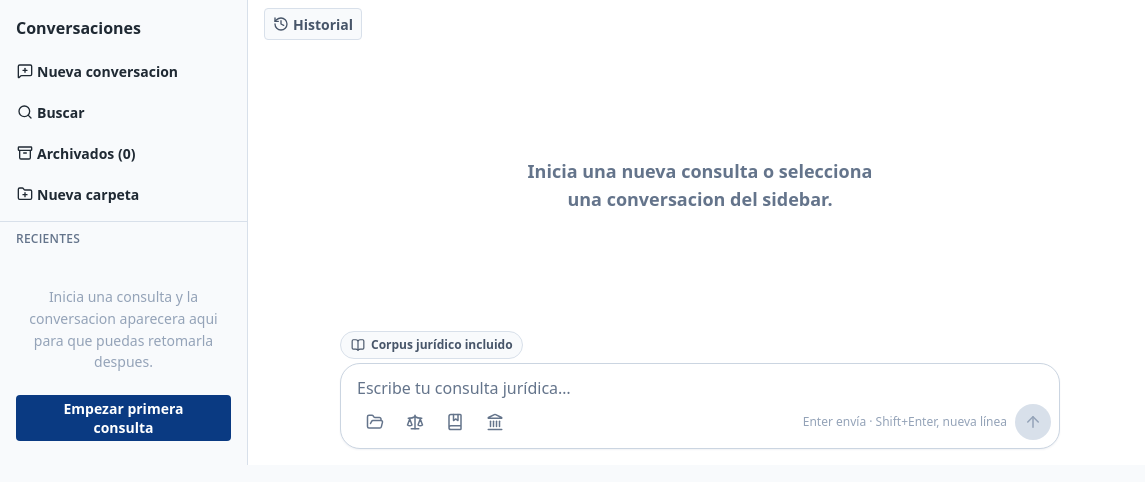
Test: Asistente (chat) › error del backend muestra mensaje al usuario
Type "consulta valida" into the text box labelled "consulta" at (704, 388), box [357,376,1051,400]
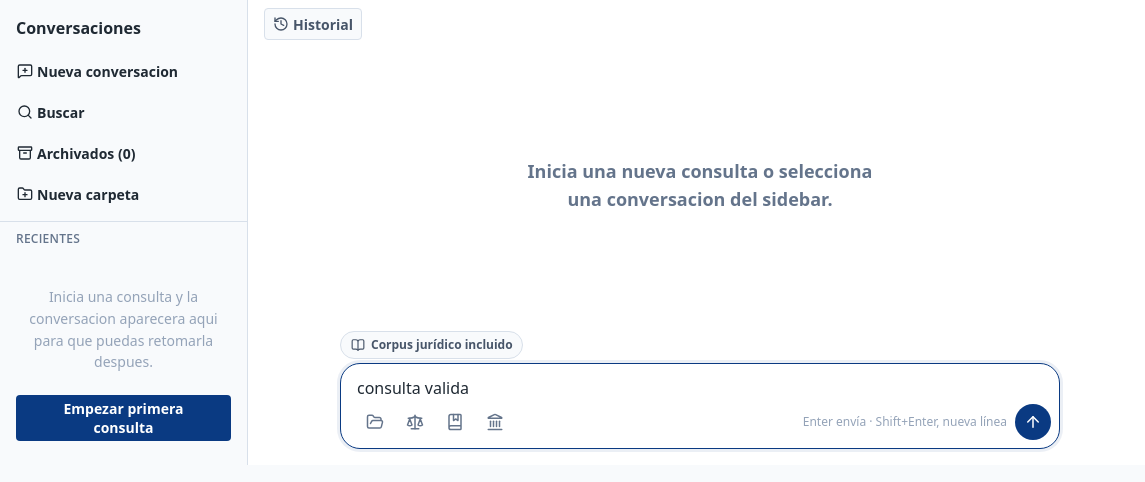
Click the button named "enviar" at (1033, 422), box [1015,404,1051,440]
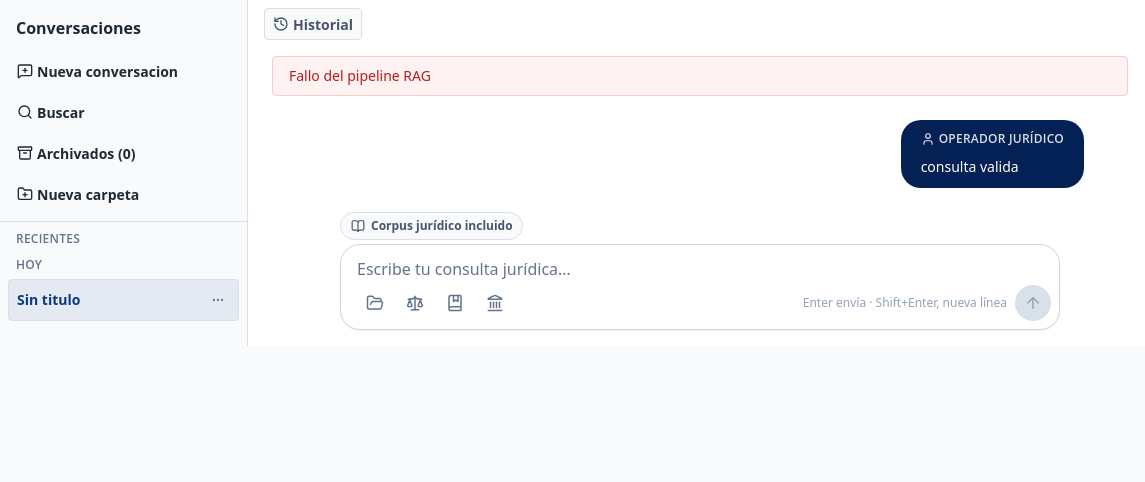
Now the text "Fallo del pipeline RAG" is shown, box [272,56,1128,96]
